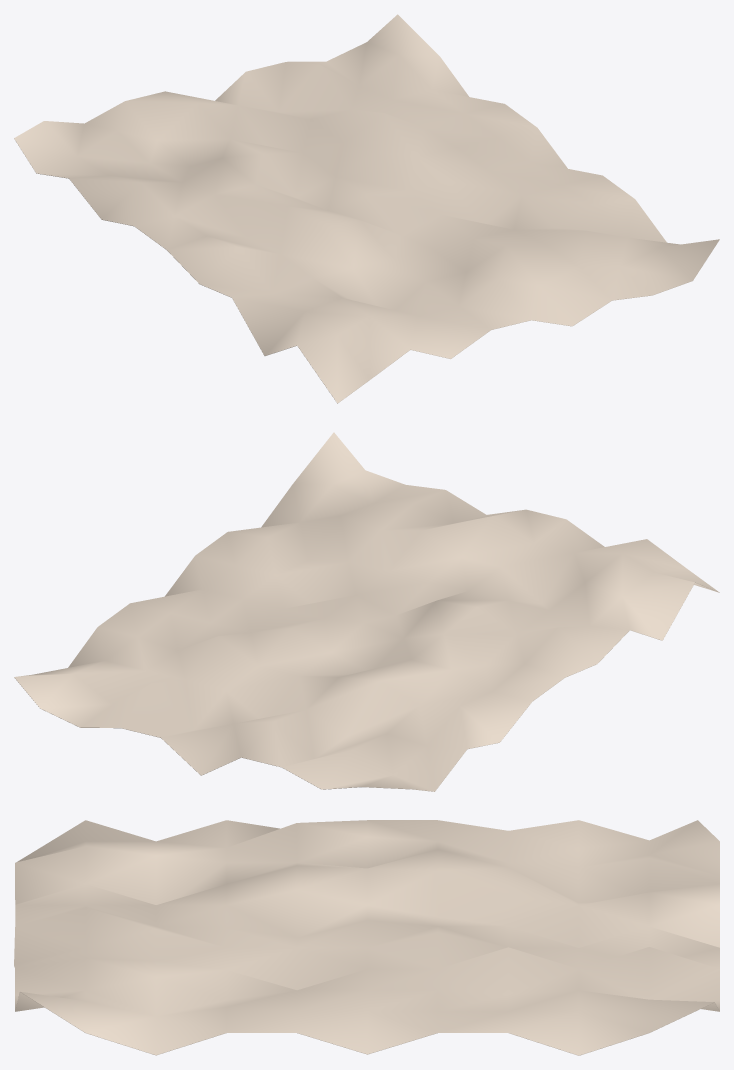
File: sm_TrashPaperSheet2.fbx
3 views of the same model, one above another, from view 1: azimuth 30°, elevation 25°; view 2: azimuth 150°, elevation 25°; view 3: azimuth 270°, elevation 25° (orthographic). The views are drawn at different scales.
Parts seen in each view (by area): view 1: PaperSheet_2_export_non_scale:PaperSheet_2; view 2: PaperSheet_2_export_non_scale:PaperSheet_2; view 3: PaperSheet_2_export_non_scale:PaperSheet_2.
Part boxes in pixels (x1,y1,x2,y2): PaperSheet_2_export_non_scale:PaperSheet_2: (14, 14, 719, 403); PaperSheet_2_export_non_scale:PaperSheet_2: (14, 432, 719, 791); PaperSheet_2_export_non_scale:PaperSheet_2: (14, 820, 719, 1055).
Bounding box in the file's own units: 102 × 16.64 × 143.
